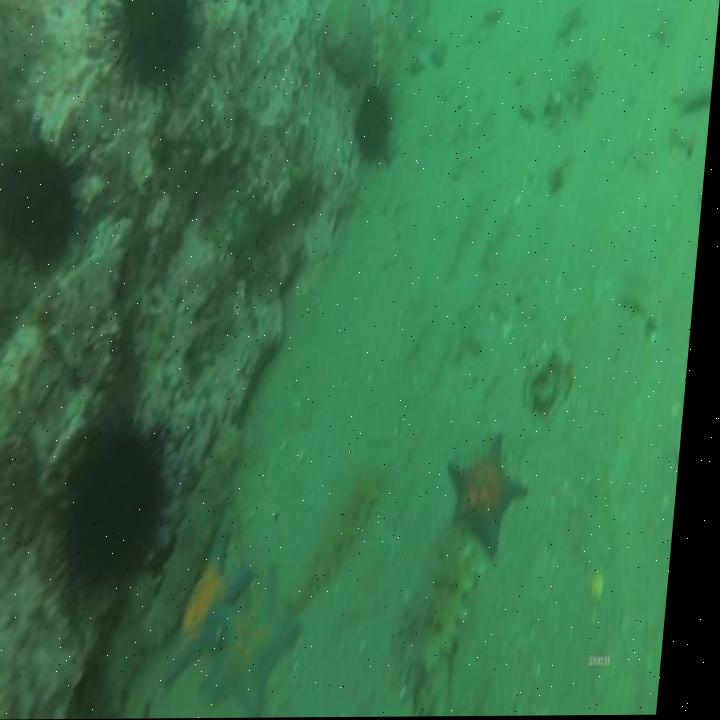echinus: (73, 433, 175, 588), (0, 150, 81, 272), (111, 4, 196, 83), (356, 94, 394, 158)
starfish: (152, 422, 251, 657), (217, 567, 317, 717), (177, 530, 266, 687), (304, 474, 389, 615), (452, 432, 541, 554), (435, 543, 494, 676), (118, 577, 167, 705)
